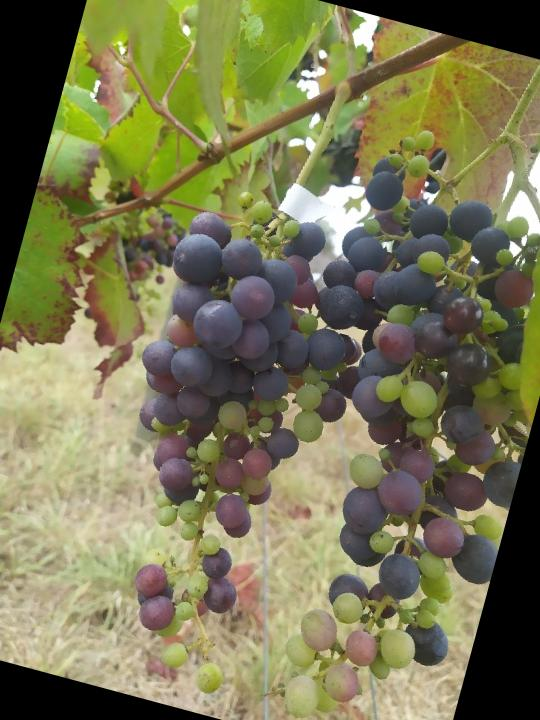grape: (206, 109, 540, 720), (58, 173, 397, 713)
